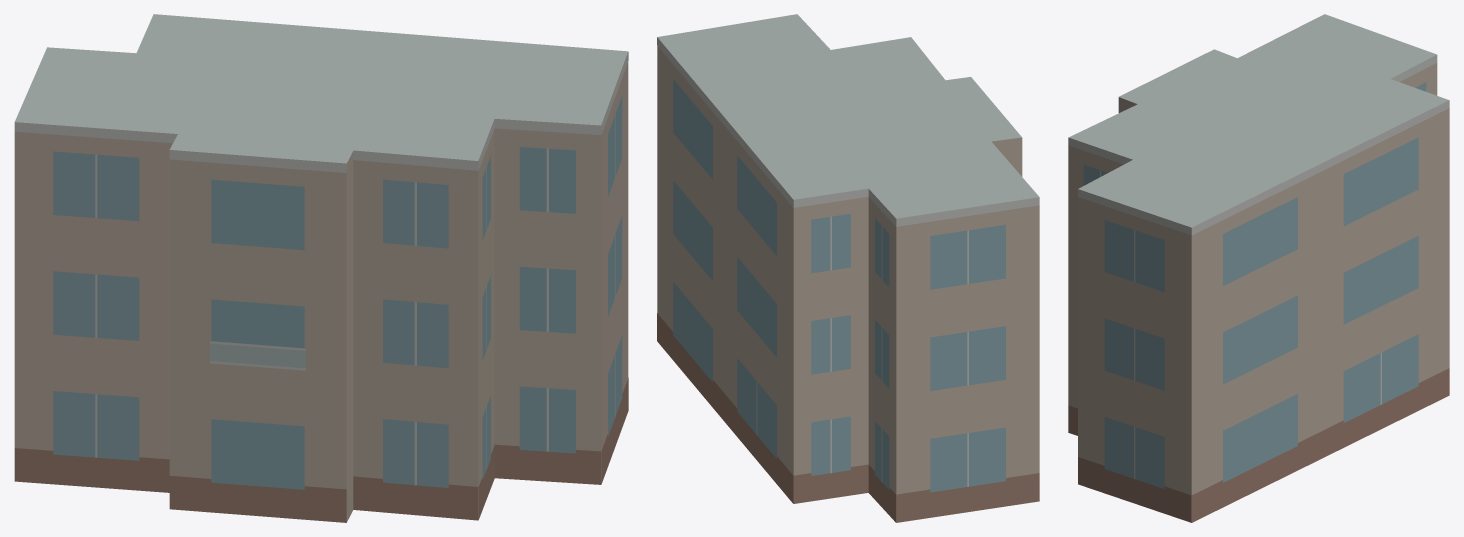
Rendered from survey-upis-32711074.glb.
3 views of the same model, side by side, from view 1: azimuth 30°, elevation 25°; view 2: azimuth 150°, elevation 25°; view 3: azimuth 270°, elevation 25° (orthographic). The views are drawn at different scales.
Parts seen in each view (by area): view 1: survey-upis-32711074.tmp; view 2: survey-upis-32711074.tmp; view 3: survey-upis-32711074.tmp.
Boxes of the visible parts, <box> form: survey-upis-32711074.tmp: <box>14,14,628,522</box>; survey-upis-32711074.tmp: <box>657,14,1039,522</box>; survey-upis-32711074.tmp: <box>1068,14,1449,522</box>.
Bounding box in the file's own units: 14.21 × 9.15 × 10.71.
